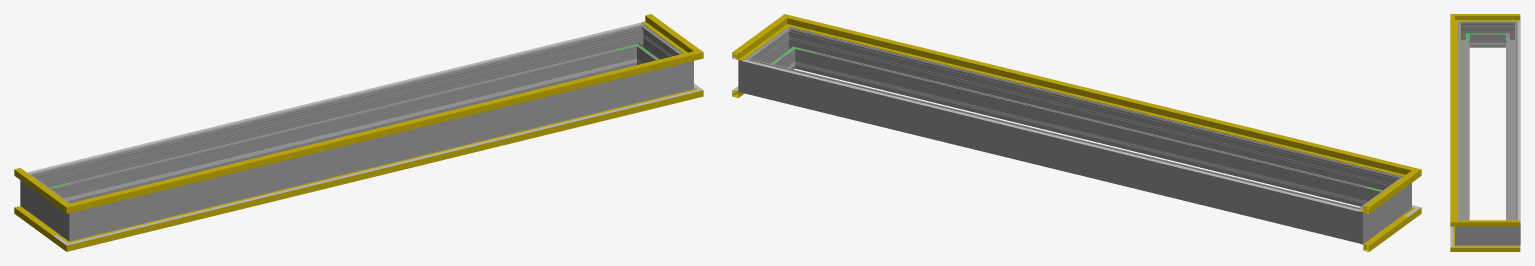
3 renders of one model, left to right at view 1: azimuth 30°, elevation 25°; view 2: azimuth 150°, elevation 25°; view 3: azimuth 270°, elevation 25°, orthographic. The views are drawn at different scales.
Visible parts, largest first — view 1: 3DGeom-278, 3DGeom-300, 3DGeom-123, 3DGeom-11, 3DGeom-246, 3DGeom-222, 3DGeom-20, 3DGeom-272, 3DGeom-286, 3DGeom-292, 3DGeom-128, 3DGeom-270 (+5 smaller); view 2: 3DGeom-300, 3DGeom-278, 3DGeom-123, 3DGeom-241, 3DGeom-222, 3DGeom-280, 3DGeom-286, 3DGeom-292, 3DGeom-128, 3DGeom-299, 3DGeom-270, 3DGeom-118 (+3 smaller); view 3: 3DGeom-300, 3DGeom-278, 3DGeom-123, 3DGeom-270, 3DGeom-299, 3DGeom-222, 3DGeom-118, 3DGeom-286, 3DGeom-128, 3DGeom-292, 3DGeom-16, 3DGeom-272 (+9 smaller).
Boxes of the visible parts, x1=… form: 3DGeom-278: x1=45, y1=29, x2=632, y2=203; 3DGeom-300: x1=92, y1=66, x2=671, y2=235; 3DGeom-123: x1=86, y1=55, x2=680, y2=208; 3DGeom-11: x1=86, y1=93, x2=680, y2=246; 3DGeom-246: x1=72, y1=64, x2=614, y2=199; 3DGeom-222: x1=27, y1=22, x2=642, y2=173; 3DGeom-20: x1=87, y1=94, x2=680, y2=239; 3DGeom-272: x1=56, y1=198, x2=91, y2=241; 3DGeom-286: x1=624, y1=24, x2=654, y2=65; 3DGeom-292: x1=671, y1=49, x2=693, y2=94; 3DGeom-128: x1=641, y1=14, x2=689, y2=50; 3DGeom-270: x1=33, y1=182, x2=63, y2=231; 3DGeom-300: x1=799, y1=31, x2=1386, y2=206; 3DGeom-278: x1=761, y1=62, x2=1343, y2=238; 3DGeom-123: x1=802, y1=19, x2=1398, y2=174; 3DGeom-241: x1=817, y1=66, x2=1359, y2=202; 3DGeom-222: x1=742, y1=59, x2=1360, y2=211; 3DGeom-280: x1=1340, y1=201, x2=1375, y2=244; 3DGeom-286: x1=738, y1=51, x2=764, y2=97; 3DGeom-292: x1=778, y1=27, x2=807, y2=69; 3DGeom-128: x1=732, y1=23, x2=781, y2=60; 3DGeom-299: x1=755, y1=35, x2=792, y2=69; 3DGeom-270: x1=1369, y1=184, x2=1398, y2=234; 3DGeom-118: x1=1359, y1=177, x2=1408, y2=213; 3DGeom-300: x1=1458, y1=27, x2=1469, y2=220; 3DGeom-278: x1=1506, y1=27, x2=1517, y2=220; 3DGeom-123: x1=1450, y1=21, x2=1457, y2=218; 3DGeom-270: x1=1472, y1=21, x2=1502, y2=47; 3DGeom-299: x1=1472, y1=226, x2=1502, y2=245; 3DGeom-222: x1=1518, y1=21, x2=1520, y2=222; 3DGeom-118: x1=1468, y1=14, x2=1520, y2=21; 3DGeom-286: x1=1503, y1=217, x2=1520, y2=245; 3DGeom-128: x1=1468, y1=220, x2=1520, y2=226; 3DGeom-292: x1=1455, y1=217, x2=1472, y2=245; 3DGeom-16: x1=1468, y1=245, x2=1520, y2=251; 3DGeom-272: x1=1458, y1=21, x2=1472, y2=47.
Size of the model in its own units: 4.27 by 0.2836 by 0.6096.
